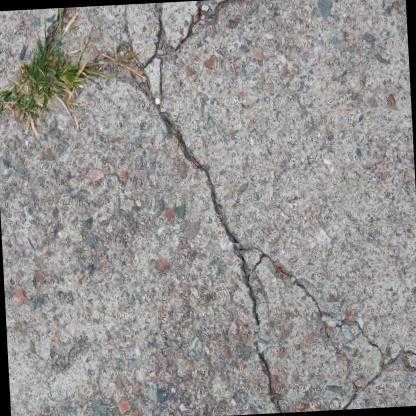crack: (142, 74, 260, 325), (338, 314, 416, 409), (263, 249, 333, 340), (259, 356, 285, 413)
